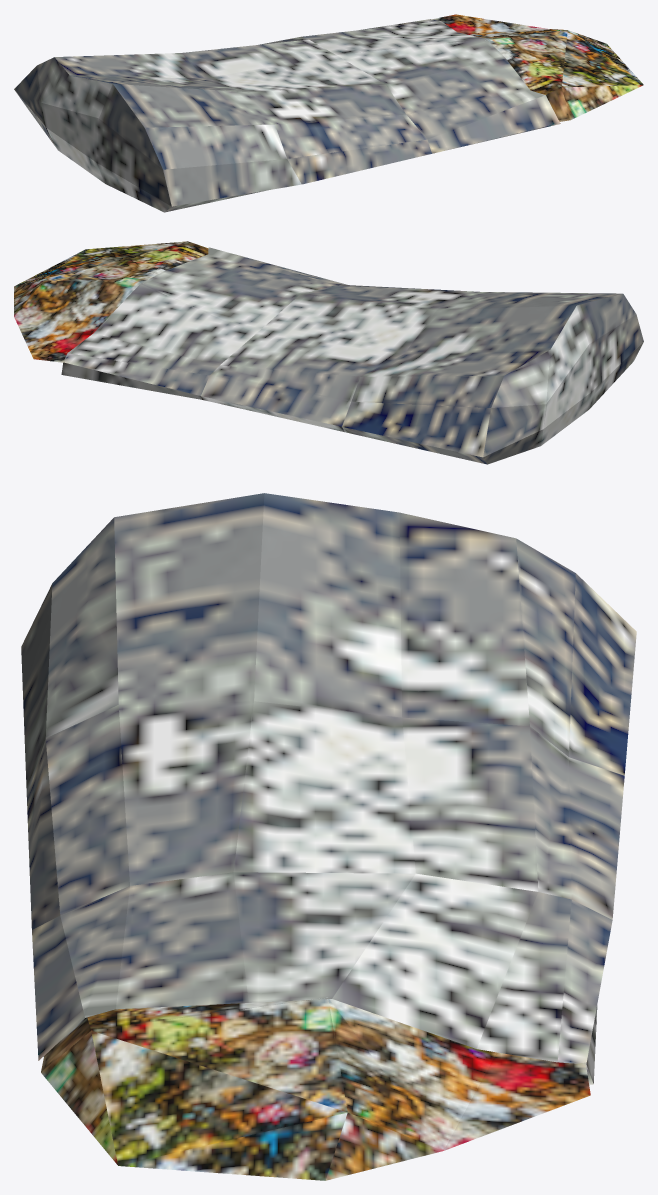
File: bolsasbasura5.fbx
3 views of the same model, one above another, from view 1: azimuth 30°, elevation 25°; view 2: azimuth 150°, elevation 25°; view 3: azimuth 270°, elevation 25° (orthographic). The views are drawn at different scales.
Visible parts, largest first — view 1: trashbag_3_white; view 2: trashbag_3_white; view 3: trashbag_3_white.
Boxes of the visible parts, <box> form: trashbag_3_white: <box>14,14,643,212</box>; trashbag_3_white: <box>14,241,643,464</box>; trashbag_3_white: <box>21,493,636,1180</box>.
Bounding box in the file's own units: 173 × 31.75 × 86.94.
2 materials, 2 textured.
